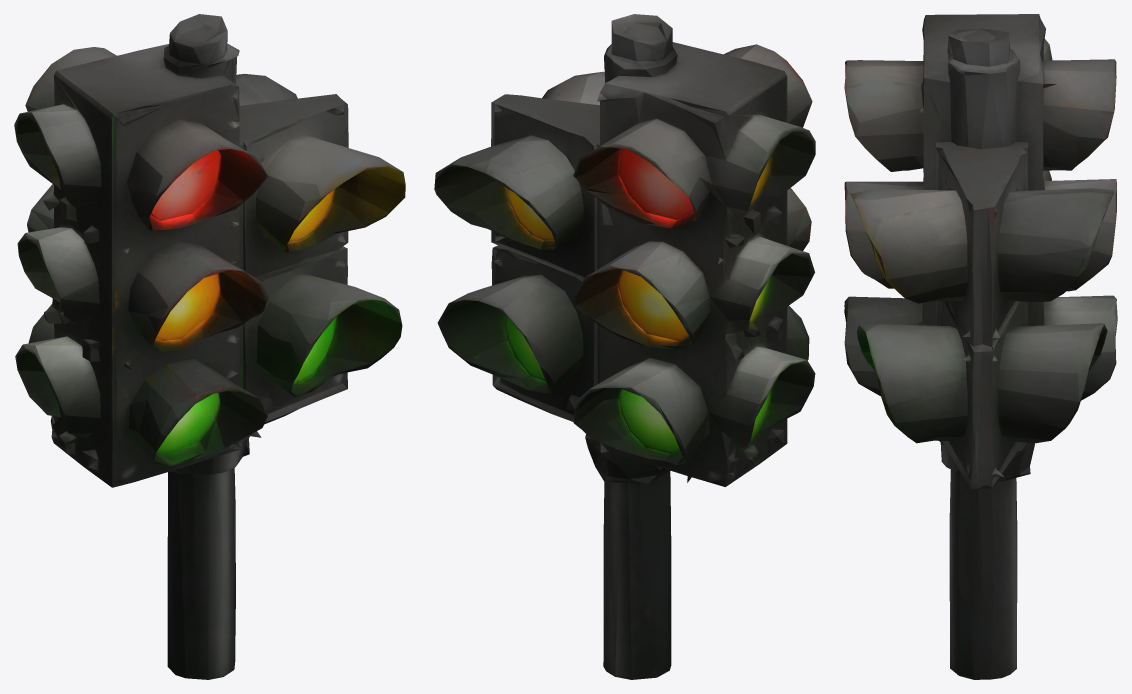
Rendered from fw_prop_trafficlight_a.glb.
The picture shows the model from 3 angles, left to right: view 1: azimuth 30°, elevation 25°; view 2: azimuth 150°, elevation 25°; view 3: azimuth 270°, elevation 25°; orthographic projection.
Parts seen in each view (by area): view 1: model; view 2: model; view 3: model.
Part boxes in pixels (x1=…): model: x1=14, y1=14, x2=405, y2=679; model: x1=434, y1=14, x2=815, y2=679; model: x1=844, y1=14, x2=1117, y2=679.
Bounding box in the file's own units: 2.08 × 4 × 1.56.
1 material, 1 textured.
